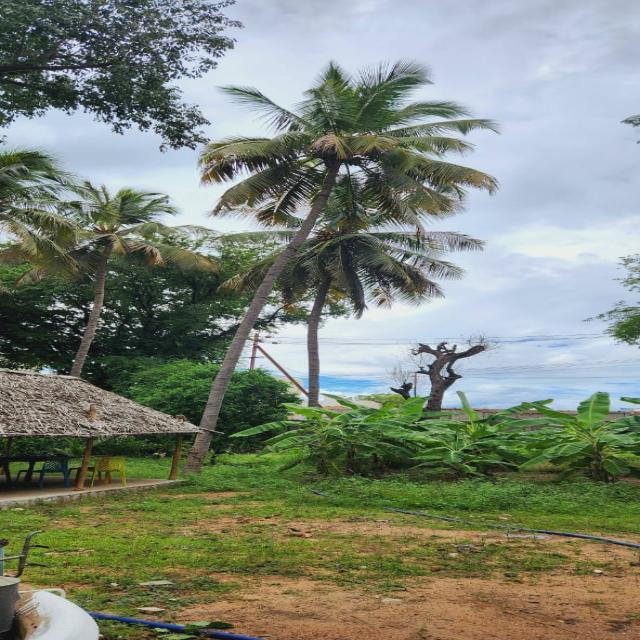Coconut-tree: (263, 41, 464, 451), (56, 192, 163, 398)
